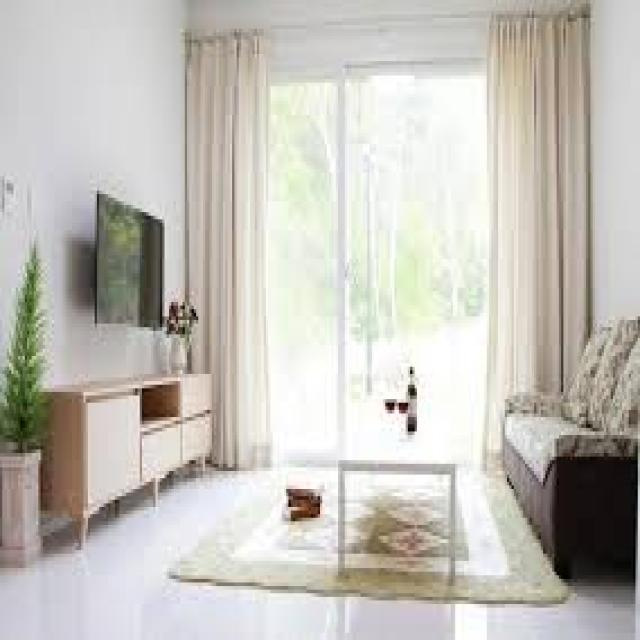Sofa: (508, 317, 636, 585)
Table: (338, 438, 462, 573)
tv: (95, 188, 167, 332)
window: (214, 37, 498, 452)
